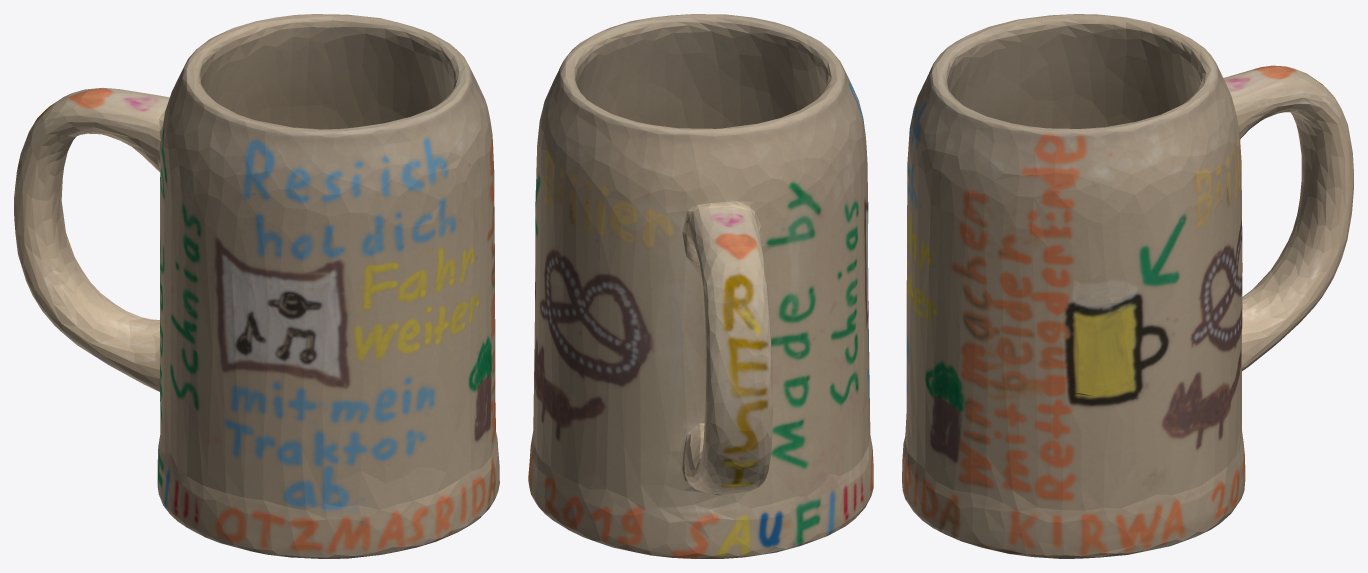
3 views of the same model, side by side, from view 1: azimuth 30°, elevation 25°; view 2: azimuth 150°, elevation 25°; view 3: azimuth 270°, elevation 25° (orthographic).
Parts seen in each view (by area): view 1: Krug Sprueche_4k_2k; view 2: Krug Sprueche_4k_2k; view 3: Krug Sprueche_4k_2k.
Boxes of the visible parts, left/top/right/bottom form: Krug Sprueche_4k_2k: left=14, top=14, right=499, bottom=558; Krug Sprueche_4k_2k: left=528, top=14, right=873, bottom=558; Krug Sprueche_4k_2k: left=902, top=14, right=1353, bottom=558.
Size of the model in its own units: 0.1128 by 0.1324 by 0.1295.
Materials: 1 (1 with a texture image).
